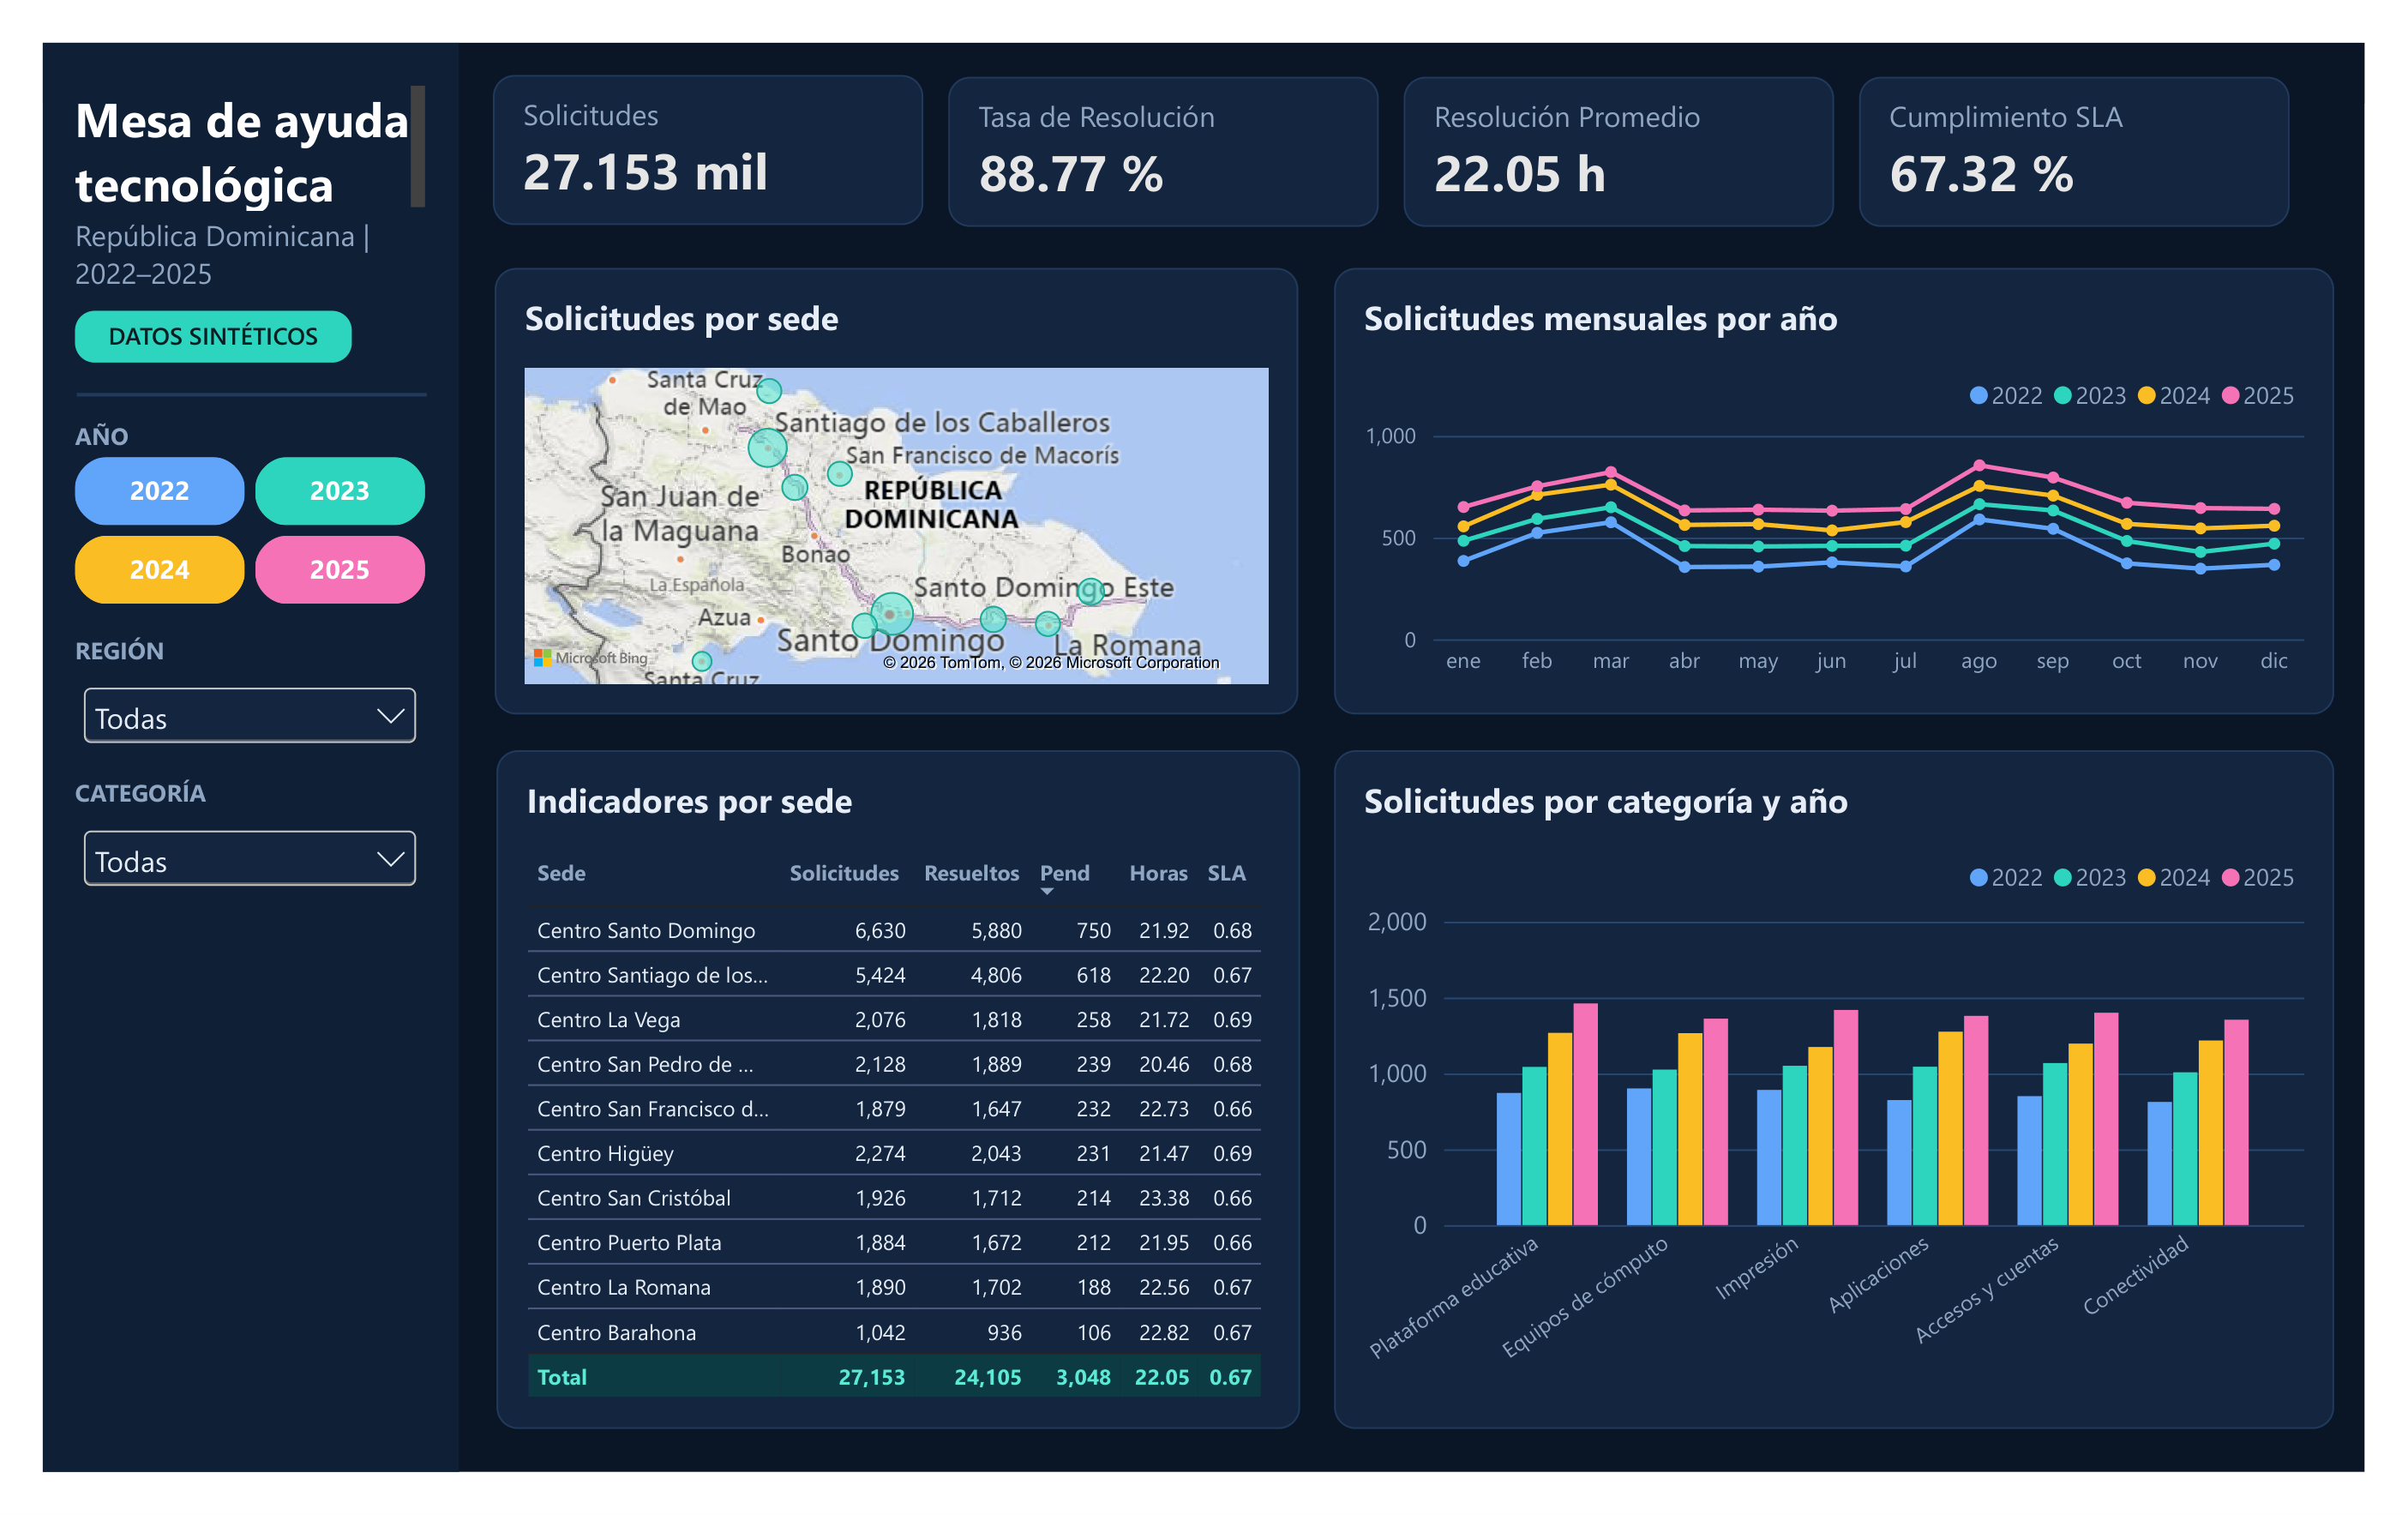

The page's visual inventory and layout, read from the dashboard file:
{"tool":"powerbi","page":{"name":"Página 1","canvas":[1300,800],"ordinal":0},"visuals":[{"type":"shape","box":[0,0,232.5,800],"z":0},{"type":"textbox","box":[18,24,196,70],"z":1000},{"type":"textbox","box":[18.3,96.7,196.7,45],"z":2000},{"type":"advancedSlicerVisual","fields":{"Values":["Calendario.Anio"]},"box":[17.5,232,196.2,82.5],"z":3000},{"type":"textbox","box":[17.5,150,155,28.8],"z":4000},{"type":"textbox","box":[18,210,100,22],"z":5000},{"type":"shape","box":[18.8,191.2,196,12],"z":6000},{"type":"textbox","box":[18,330,88.8,26.2],"z":7000},{"type":"textbox","box":[18,410,88.8,26.2],"z":8000},{"type":"slicer","fields":{"Values":["DimSedes.Region"]},"box":[18,356,196,40],"z":9000},{"type":"slicer","fields":{"Values":["DimCategorias.Categoria"]},"box":[18,436,196,40],"z":10000},{"type":"cardVisual","fields":{"Data":["Medidas.Total Tickets"]},"box":[252,18,241,84],"z":11000},{"type":"cardVisual","fields":{"Data":["Medidas.Tasa Resolucion"]},"box":[507,18.8,241,84],"z":12000},{"type":"cardVisual","fields":{"Data":["Medidas.Cumplimiento SLA"]},"box":[1017,18.8,241,84],"z":13000},{"type":"cardVisual","fields":{"Data":["Medidas.Horas Promedio Resolucion"]},"box":[762,18.8,241,84],"z":14000},{"type":"map","title":"Solicitudes por sede","fields":{"Category":["DimSedes.Sede"],"Size":["Medidas.Total Tickets"],"X":["Avg(DimSedes.Longitud)"],"Y":["Avg(DimSedes.Latitud)"]},"box":[252.9,125.7,450,250],"z":15000},{"type":"lineChart","title":"Solicitudes mensuales por año","fields":{"Category":["Calendario.MesCorto"],"Series":["Calendario.Anio"],"Y":["Medidas.Total Tickets"]},"box":[722.9,125.7,560,250],"z":16000},{"type":"lineClusteredColumnComboChart","title":"Solicitudes por categoría y año","fields":{"Category":["DimCategorias.Categoria"],"Series":["Calendario.Anio"],"Y":["Medidas.Total Tickets"]},"box":[722.9,395.7,560,380],"z":17000},{"type":"tableEx","title":"Indicadores por sede","fields":{"Values":["DimSedes.Sede","Medidas.Total Tickets","Medidas.Tickets Resueltos","Medidas.Tickets Pendientes","Medidas.Horas Promedio Resolucion","Medidas.Cumplimiento SLA"]},"box":[254.3,395.7,450,380],"z":18000}]}

Visuals, with their boxes on the page's 1300x800 design canvas (x1, y1, x2, y2). These are canvas units, not pixel positions in the 2408x1515 screenshot, which may show the page scaled, cropped or inside an application window:
shape: (0,0,232,800)
textbox: (18,24,214,94)
textbox: (18,97,215,142)
advancedSlicerVisual - Calendario.Anio: (18,232,214,314)
textbox: (18,150,172,179)
textbox: (18,210,118,232)
shape: (19,191,215,203)
textbox: (18,330,107,356)
textbox: (18,410,107,436)
slicer - DimSedes.Region: (18,356,214,396)
slicer - DimCategorias.Categoria: (18,436,214,476)
cardVisual - Medidas.Total Tickets: (252,18,493,102)
cardVisual - Medidas.Tasa Resolucion: (507,19,748,103)
cardVisual - Medidas.Cumplimiento SLA: (1017,19,1258,103)
cardVisual - Medidas.Horas Promedio Resolucion: (762,19,1003,103)
"Solicitudes por sede" map: (253,126,703,376)
"Solicitudes mensuales por año" lineChart: (723,126,1283,376)
"Solicitudes por categoría y año" lineClusteredColumnComboChart: (723,396,1283,776)
"Indicadores por sede" tableEx: (254,396,704,776)
